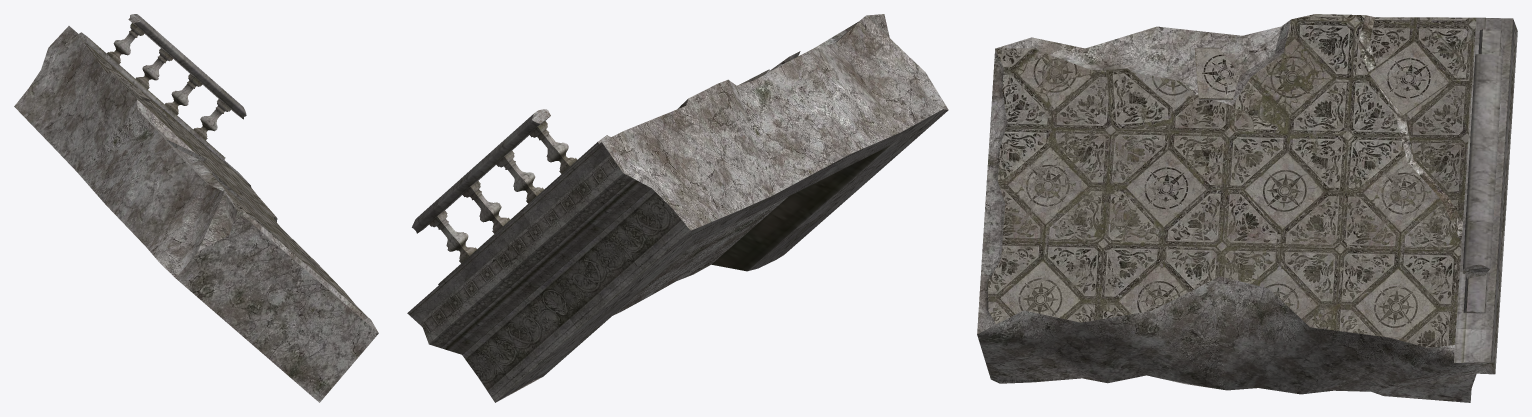
File: eso_ss14_ruins8-transformed.glb
The picture shows the model from 3 angles, left to right: view 1: azimuth 30°, elevation 25°; view 2: azimuth 150°, elevation 25°; view 3: azimuth 270°, elevation 25°; orthographic projection. The views are drawn at different scales.
Parts seen in each view (by area): view 1: default; view 2: default; view 3: default.
Boxes of the visible parts, <box> form: default: <box>14,14,378,402</box>; default: <box>407,14,948,402</box>; default: <box>977,14,1517,402</box>.
Size of the model in its own units: 6.61 by 6.32 by 9.32.
4 materials, 4 textured.
